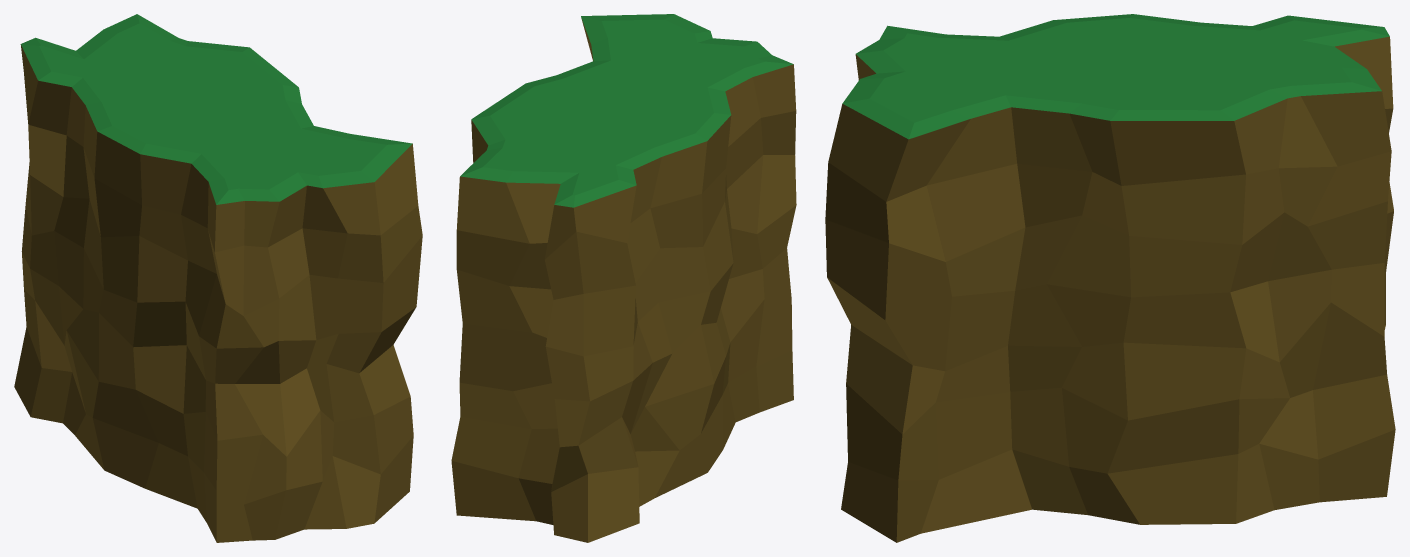
The model's file is wall2.fbx.
3 renders of one model, left to right at view 1: azimuth 30°, elevation 25°; view 2: azimuth 150°, elevation 25°; view 3: azimuth 270°, elevation 25°, orthographic. The views are drawn at different scales.
Parts seen in each view (by area): view 1: Wall 2; view 2: Wall 2; view 3: Wall 2.
Boxes of the visible parts, x1,y1,x2,y2 form: Wall 2: (14,14,422,542); Wall 2: (451,14,796,542); Wall 2: (825,14,1395,542).
Bounding box in the file's own units: 156 × 231 × 287.
